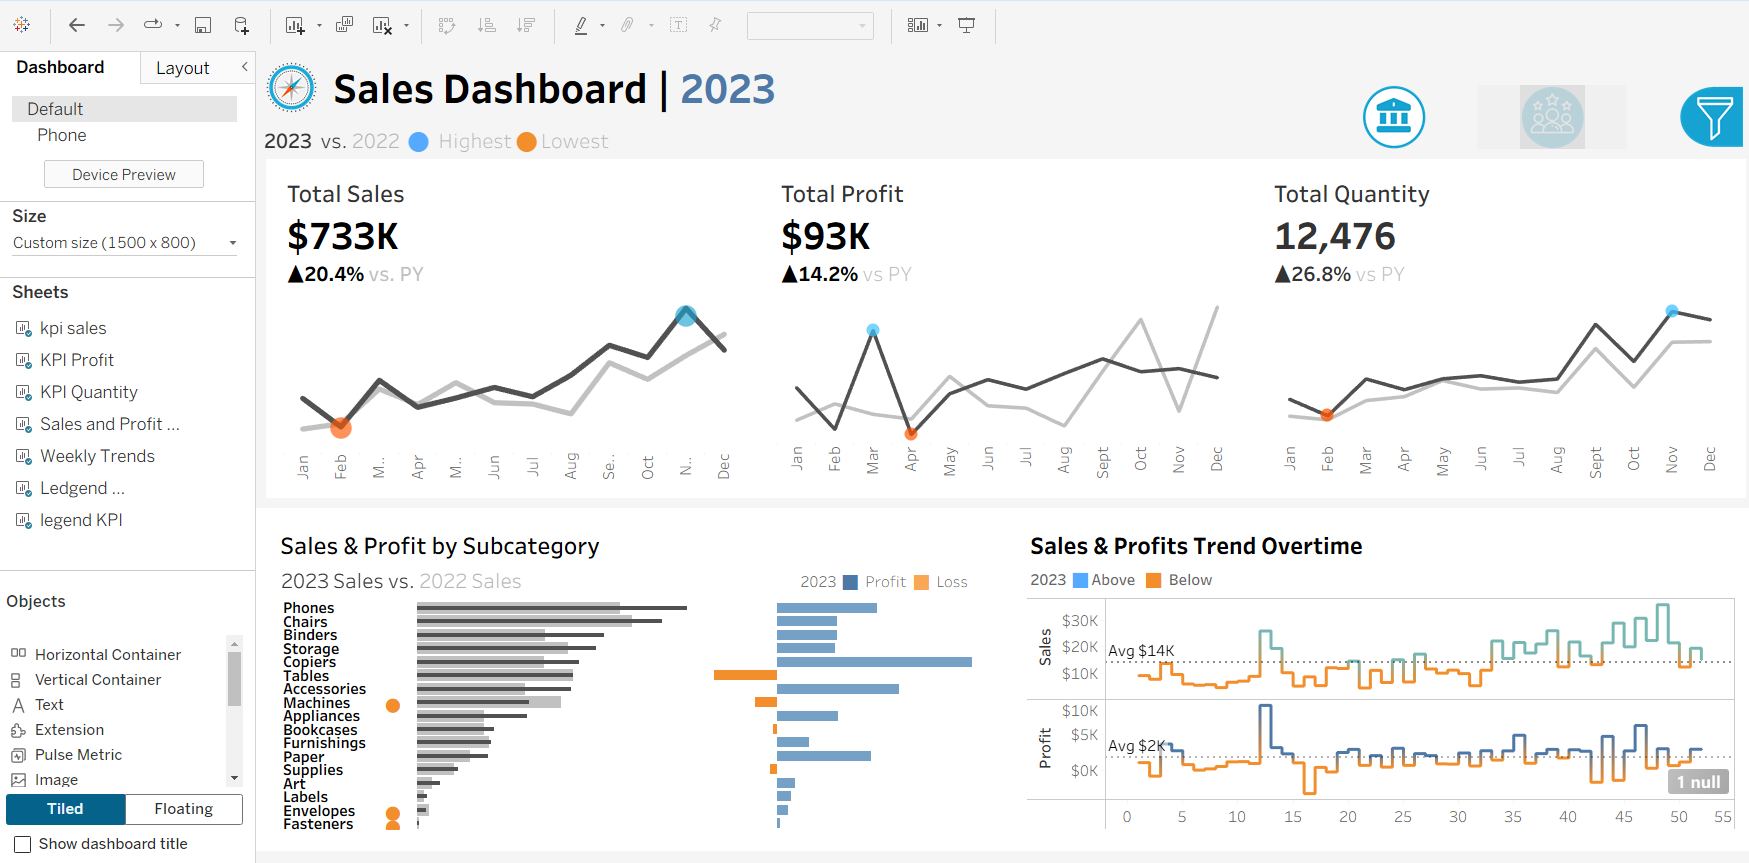

What the dashboard file says about the page in this screenshot:
{"tool":"tableau","page":{"name":"Sales Dashboard","canvas":[1500,800],"ordinal":0},"visuals":[{"type":"image","param":"Image/Icon - Logo.png","box":[0,0,70,72]},{"type":"text","box":[70,0,956,72]},{"type":"text","box":[1300,13,193,100]},{"type":"dashboard-object","box":[1059,30,158,72]},{"type":"dashboard-object","box":[1217,30,158,72]},{"type":"worksheet","title":"legend KPI","mark":"Automatic","box":[0,72,1500,36]},{"type":"text","box":[1300,113,193,40]},{"type":"worksheet","title":"kpi sales","mark":"Line","rows":["Calculation_645140665114365956"],"cols":["Order Date"],"box":[10,115,494,332]},{"type":"worksheet","title":"KPI Profit","mark":"Line","rows":["Calculation_823877275433467909"],"cols":["Order Date"],"box":[504,115,493,332]},{"type":"worksheet","title":"KPI Quantity","mark":"Automatic","rows":["Calculation_823877275445047313"],"cols":["Order Date"],"box":[997,115,493,332]},{"type":"parameter","param":"[Parameters].[Parameter 1]","box":[1300,153,193,88]},{"type":"text","box":[1300,241,193,56]},{"type":"text","box":[1300,297,193,29]},{"type":"filter","title":"kpi sales","param":"[federated.04wca9k0sm0pfw14cb2yz075lecm].[none:Category:nk]","box":[1300,326,193,61]},{"type":"filter","title":"kpi sales","param":"[federated.04wca9k0sm0pfw14cb2yz075lecm].[none:Sub-Category:nk]","box":[1300,387,193,61]},{"type":"text","box":[1300,448,193,56]},{"type":"text","box":[17,474,716,40]},{"type":"text","box":[767,474,716,40]},{"type":"text","box":[1300,504,193,29]},{"type":"worksheet","title":"Ledgend Subcategory","mark":"Automatic","box":[17,514,520,32]},{"type":"text","box":[537,514,196,32]},{"type":"text","box":[767,514,716,29]},{"type":"filter","title":"kpi sales","param":"[federated.04wca9k0sm0pfw14cb2yz075lecm].[none:Country/Region:nk]","box":[1300,533,193,61]},{"type":"worksheet","title":"Weekly Trends","mark":"Automatic","rows":["Calculation_645140665101033472","Calculation_823877275426582530"],"cols":["Order Date"],"box":[767,543,716,240]},{"type":"worksheet","title":"Sales and Profit by subcategory","mark":"Bar","rows":["Sub-Category","Calculation_823877275461861394"],"cols":["Calculation_645140665102254081","Calculation_645140665101033472","Calculation_823877275426582530"],"box":[17,546,716,236.9]},{"type":"filter","title":"kpi sales","param":"[federated.04wca9k0sm0pfw14cb2yz075lecm].[none:Region:nk]","box":[1300,594,193,61]},{"type":"filter","title":"kpi sales","param":"[federated.04wca9k0sm0pfw14cb2yz075lecm].[none:State:nk]","box":[1300,655,193,61]},{"type":"filter","title":"kpi sales","param":"[federated.04wca9k0sm0pfw14cb2yz075lecm].[none:City:nk]","box":[1300,716,193,61]}]}

Visuals, with their boxes on the page's 1500x800 design canvas (x1, y1, x2, y2). These are canvas units, not pixel positions in the 1749x863 screenshot, which may show the page scaled, cropped or inside an application window:
image: (left=0, top=0, right=70, bottom=72)
text: (left=70, top=0, right=1026, bottom=72)
text: (left=1300, top=13, right=1493, bottom=113)
dashboard-object: (left=1059, top=30, right=1217, bottom=102)
dashboard-object: (left=1217, top=30, right=1375, bottom=102)
"legend KPI" worksheet: (left=0, top=72, right=1500, bottom=108)
text: (left=1300, top=113, right=1493, bottom=153)
"kpi sales" worksheet (Line marks): (left=10, top=115, right=504, bottom=447)
"KPI Profit" worksheet (Line marks): (left=504, top=115, right=997, bottom=447)
"KPI Quantity" worksheet: (left=997, top=115, right=1490, bottom=447)
parameter: (left=1300, top=153, right=1493, bottom=241)
text: (left=1300, top=241, right=1493, bottom=297)
text: (left=1300, top=297, right=1493, bottom=326)
"kpi sales" filter: (left=1300, top=326, right=1493, bottom=387)
"kpi sales" filter: (left=1300, top=387, right=1493, bottom=448)
text: (left=1300, top=448, right=1493, bottom=504)
text: (left=17, top=474, right=733, bottom=514)
text: (left=767, top=474, right=1483, bottom=514)
text: (left=1300, top=504, right=1493, bottom=533)
"Ledgend Subcategory" worksheet: (left=17, top=514, right=537, bottom=546)
text: (left=537, top=514, right=733, bottom=546)
text: (left=767, top=514, right=1483, bottom=543)
"kpi sales" filter: (left=1300, top=533, right=1493, bottom=594)
"Weekly Trends" worksheet: (left=767, top=543, right=1483, bottom=783)
"Sales and Profit by subcategory" worksheet (Bar marks): (left=17, top=546, right=733, bottom=783)
"kpi sales" filter: (left=1300, top=594, right=1493, bottom=655)
"kpi sales" filter: (left=1300, top=655, right=1493, bottom=716)
"kpi sales" filter: (left=1300, top=716, right=1493, bottom=777)
